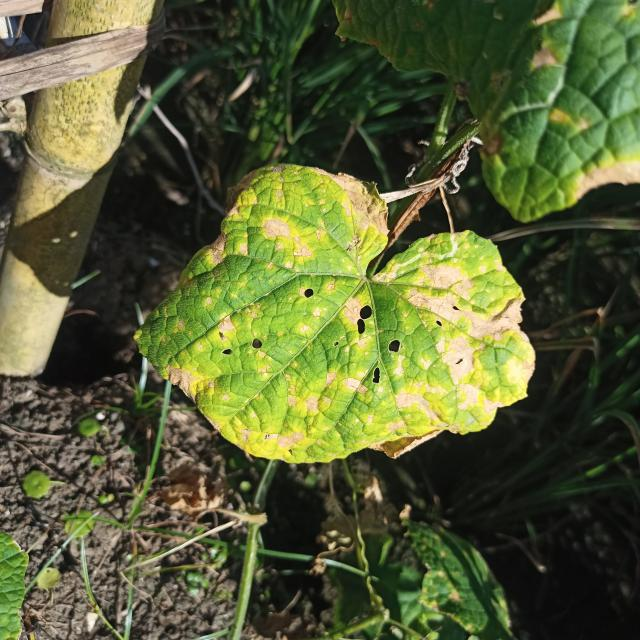disease_cucumber: (142, 163, 537, 457)
